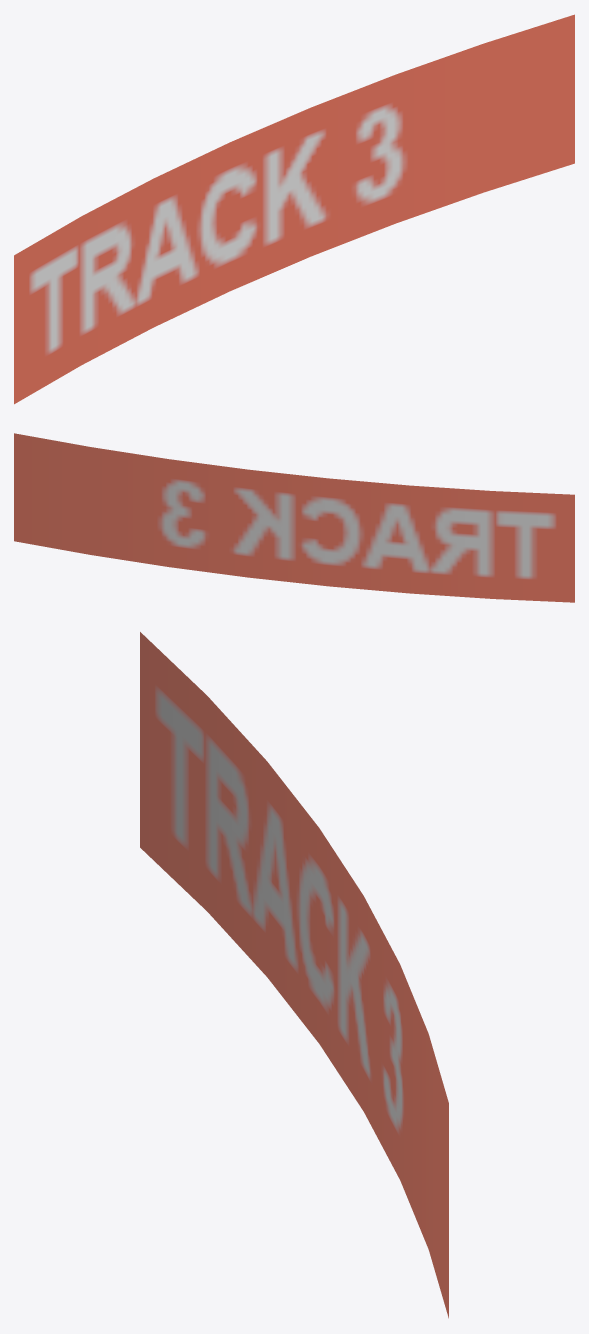
File: track3.glb
3 renders of one model, top to bottom at view 1: azimuth 30°, elevation 25°; view 2: azimuth 150°, elevation 25°; view 3: azimuth 270°, elevation 25°, orthographic. The views are drawn at different scales.
Parts seen in each view (by area): view 1: track3; view 2: track3; view 3: track3.
Boxes of the visible parts, box(x1,y1,x2,y2) form: track3: box(14, 14, 574, 404); track3: box(14, 433, 574, 602); track3: box(140, 632, 448, 1318).
Size of the model in its own units: 2.39 by 0.509 by 0.6603.
1 material, 1 textured.
